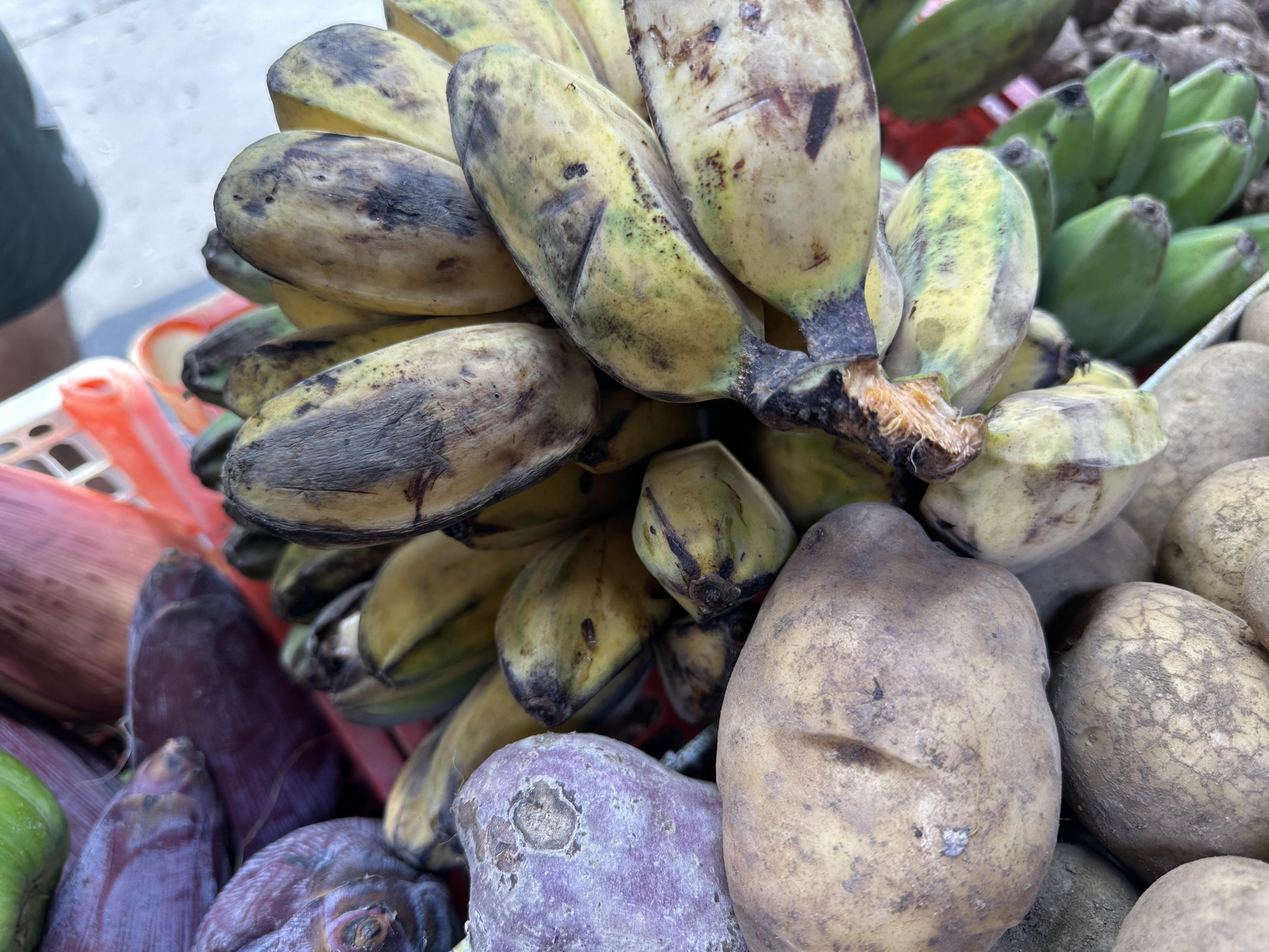underripe: (446, 0, 1174, 574), (212, 0, 656, 552), (352, 378, 894, 722), (990, 51, 1269, 365)
